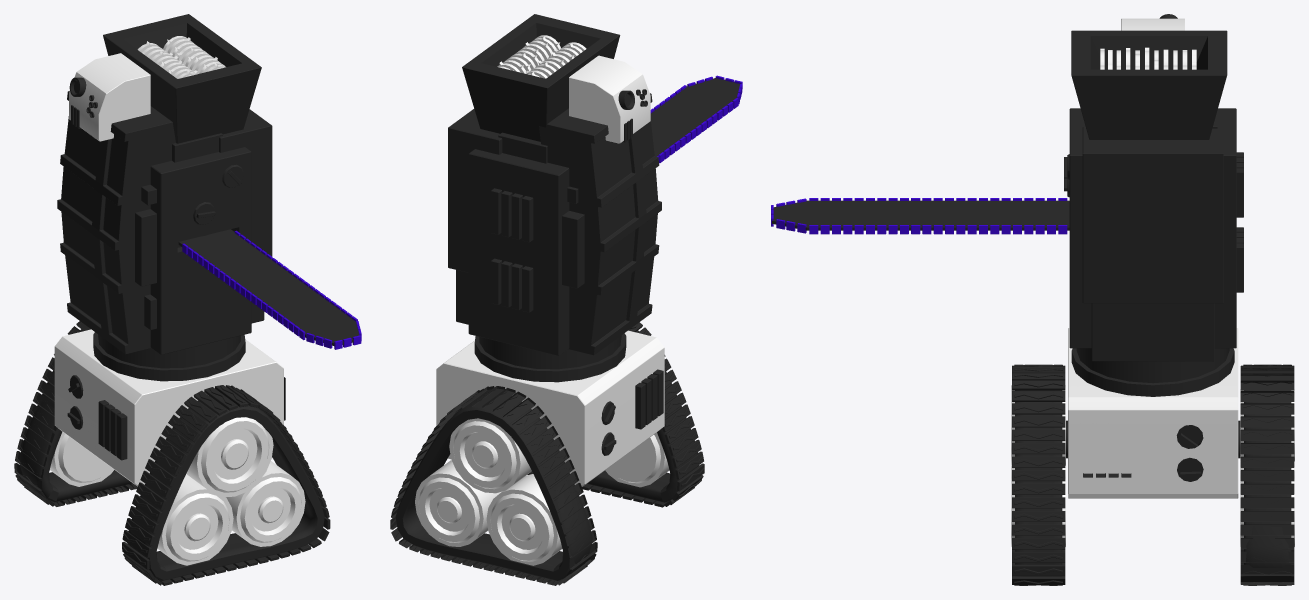
The model's file is SM_CloseEnemy.fbx.
3 renders of one model, left to right at view 1: azimuth 30°, elevation 25°; view 2: azimuth 150°, elevation 25°; view 3: azimuth 270°, elevation 25°, orthographic. The views are drawn at different scales.
Visible parts, largest first — view 1: SM_CloseEnemy_Top, SM_CloseEnemy_Bottom, SM_Chainsaw; view 2: SM_CloseEnemy_Top, SM_CloseEnemy_Bottom, SM_Chainsaw; view 3: SM_CloseEnemy_Top, SM_CloseEnemy_Bottom, SM_Chainsaw.
Boxes of the visible parts, x1,y1,x2,y2 form: SM_CloseEnemy_Top: [57, 14, 272, 368]; SM_CloseEnemy_Bottom: [14, 321, 330, 585]; SM_Chainsaw: [178, 229, 361, 349]; SM_CloseEnemy_Top: [448, 14, 661, 369]; SM_CloseEnemy_Bottom: [390, 322, 704, 585]; SM_Chainsaw: [650, 75, 742, 163]; SM_CloseEnemy_Top: [1064, 14, 1243, 383]; SM_CloseEnemy_Bottom: [1011, 328, 1294, 585]; SM_Chainsaw: [771, 198, 1069, 234].
Bounding box in the file's own units: 1.17 × 2.84 × 2.7.
